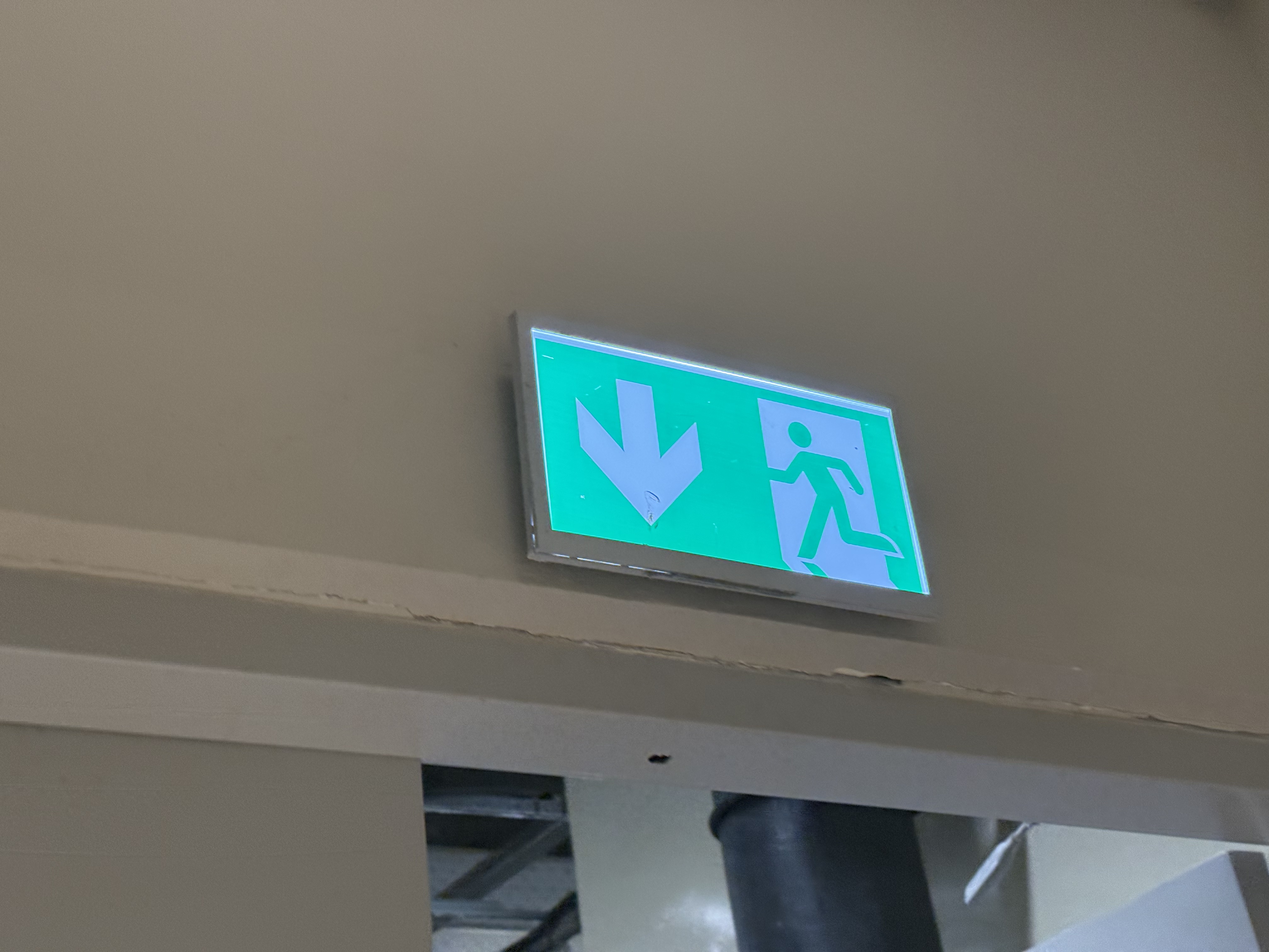emergency_exit: (510, 309, 940, 625)
